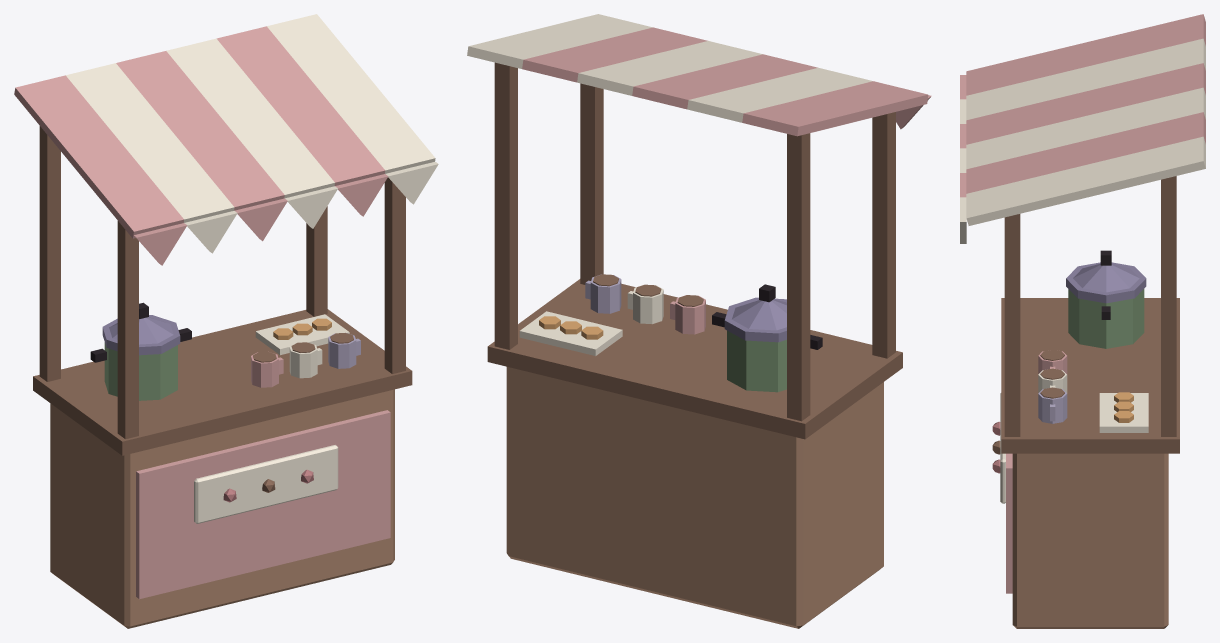
The model's file is sb_cocoa_stand.glb.
The picture shows the model from 3 angles, left to right: view 1: azimuth 30°, elevation 25°; view 2: azimuth 150°, elevation 25°; view 3: azimuth 270°, elevation 25°; orthographic projection. The views are drawn at different scales.
Visible parts, largest first — view 1: cocoa_stand; view 2: cocoa_stand; view 3: cocoa_stand.
Part boxes in pixels (box(x1,y1,x2,y2)): cocoa_stand: box(14, 14, 438, 628); cocoa_stand: box(467, 14, 931, 628); cocoa_stand: box(960, 14, 1205, 628).
Size of the model in its own units: 1.56 by 2.36 by 1.1.
